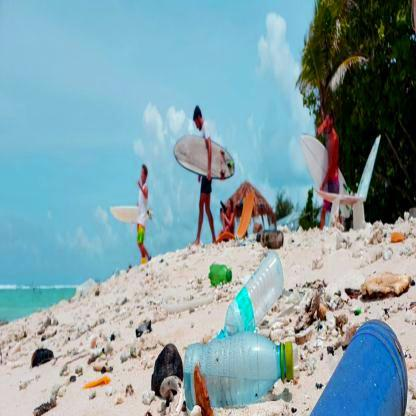Plastic: (305, 318, 415, 415), (177, 335, 297, 407), (216, 249, 287, 342)
